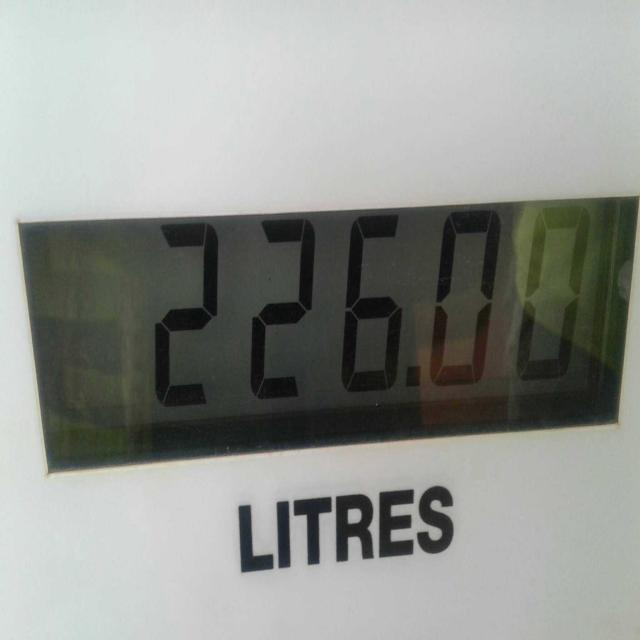.: (403, 344, 433, 414)
0: (428, 210, 502, 403), (519, 199, 595, 383)
2: (146, 225, 228, 420), (251, 213, 316, 403)
6: (328, 212, 406, 404)
